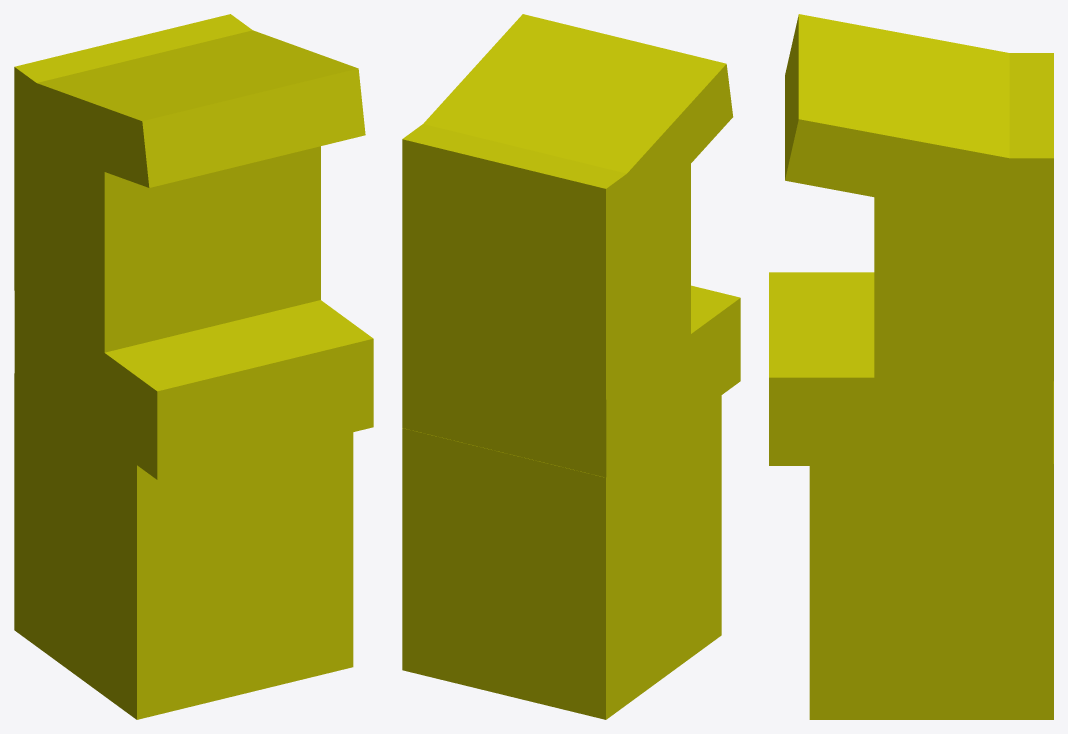
Rendered from cabinet-collider.dae.
3 views of the same model, side by side, from view 1: azimuth 30°, elevation 25°; view 2: azimuth 150°, elevation 25°; view 3: azimuth 270°, elevation 25° (orthographic). The views are drawn at different scales.
Visible parts, largest first — view 1: collider, collider_002, collider_001, collider_003; view 2: collider, collider_002, collider_003, collider_001; view 3: collider, collider_002, collider_003, collider_001.
Part boxes in pixels (bbox=[...]): collider: bbox=[14, 373, 353, 719]; collider_002: bbox=[14, 14, 320, 356]; collider_001: bbox=[14, 287, 373, 479]; collider_003: bbox=[16, 30, 365, 187]; collider: bbox=[402, 393, 721, 719]; collider_002: bbox=[402, 124, 690, 399]; collider_003: bbox=[423, 14, 733, 246]; collider_001: bbox=[402, 285, 740, 477]; collider: bbox=[809, 381, 1053, 719]; collider_002: bbox=[874, 53, 1053, 381]; collider_003: bbox=[785, 14, 1051, 227]; collider_001: bbox=[769, 272, 1053, 465].
Size of the model in its own units: 0.6608 by 0.7564 by 1.76.
